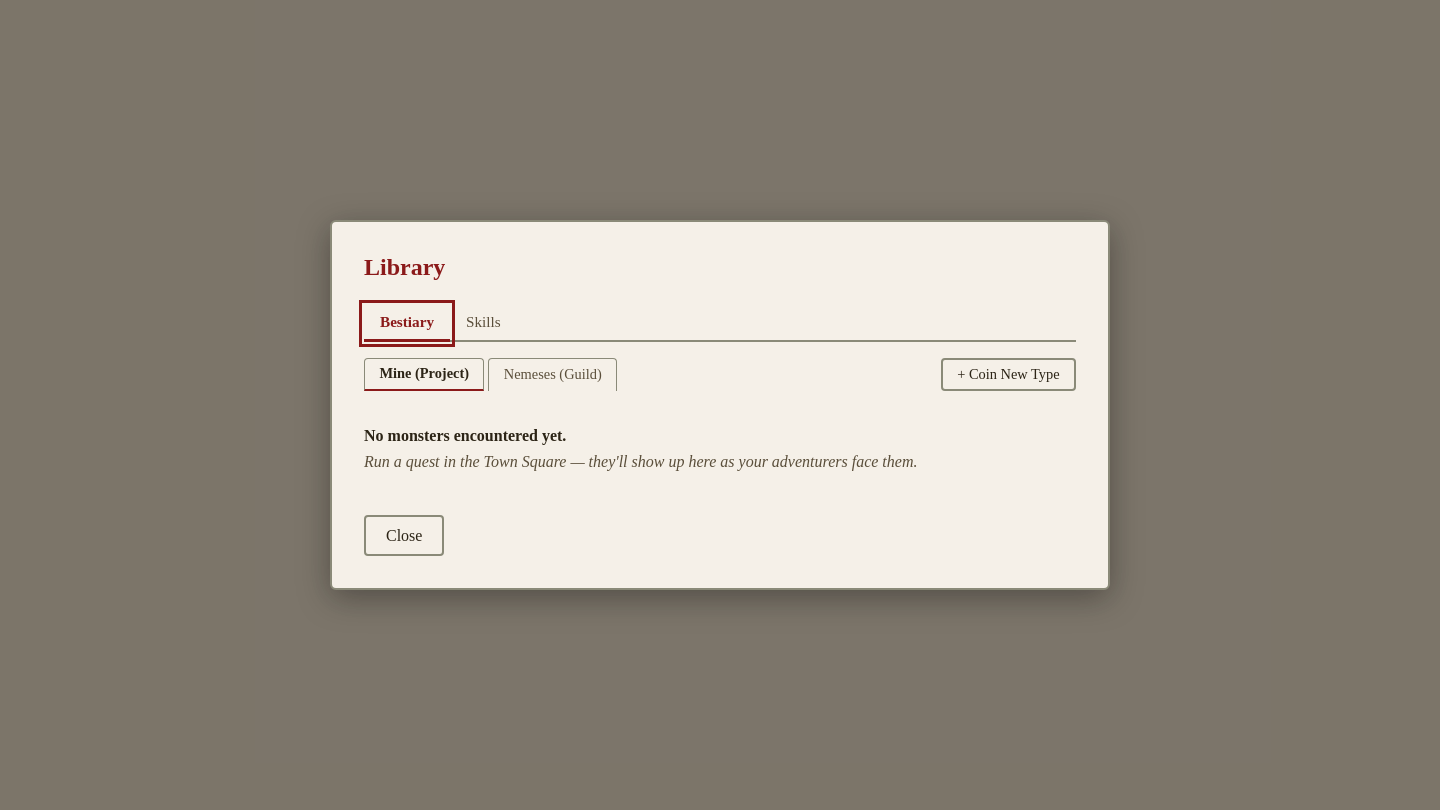
Test: Library › Skills tab shows the skills section headings when clicked
Click the tab "Skills".
click(483, 323)  # box [450,304,517,342]
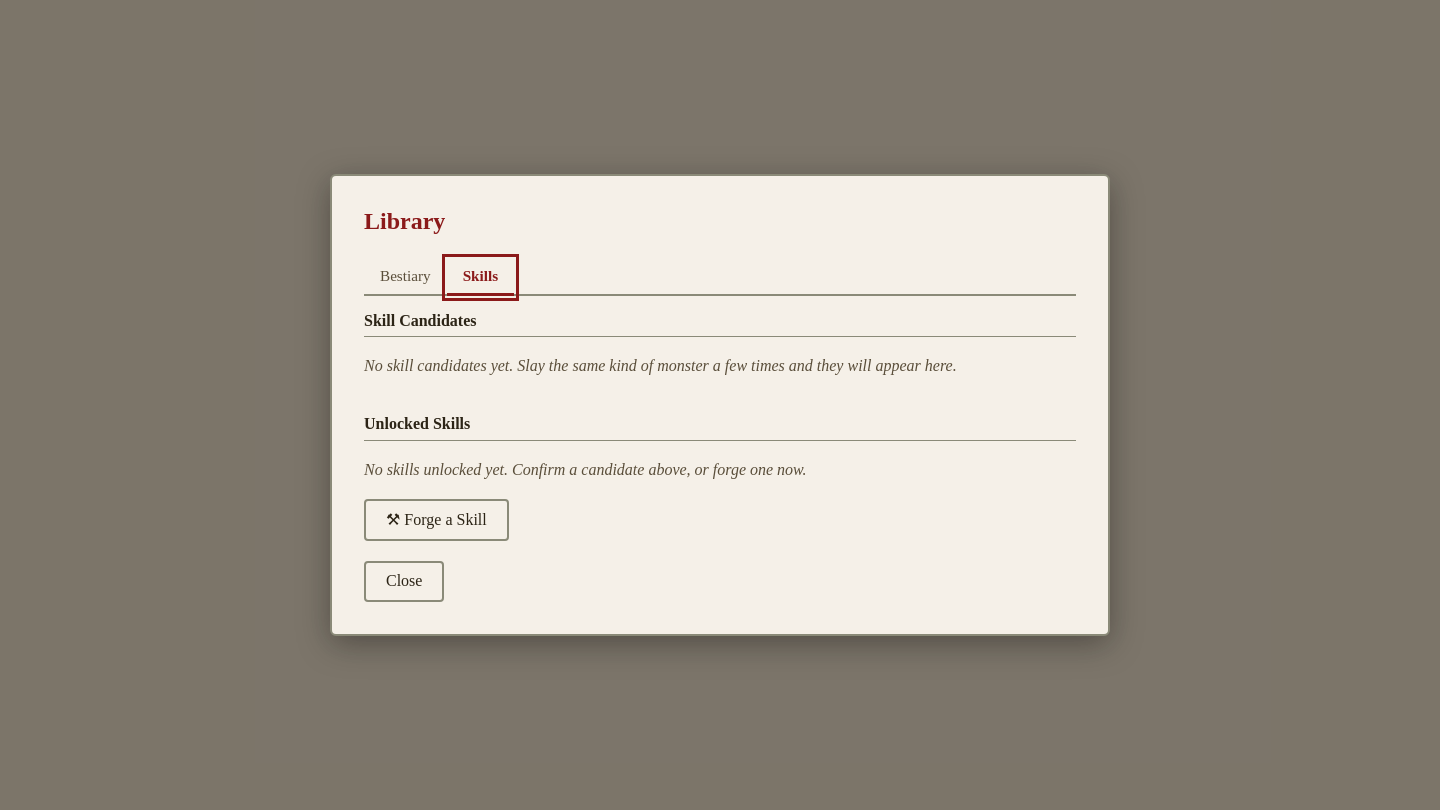
Expected: the heading "Skill Candidates" is shown, [364,312,1076,337]
Expected: the heading "Unlocked Skills" is shown, [364,415,1076,441]
